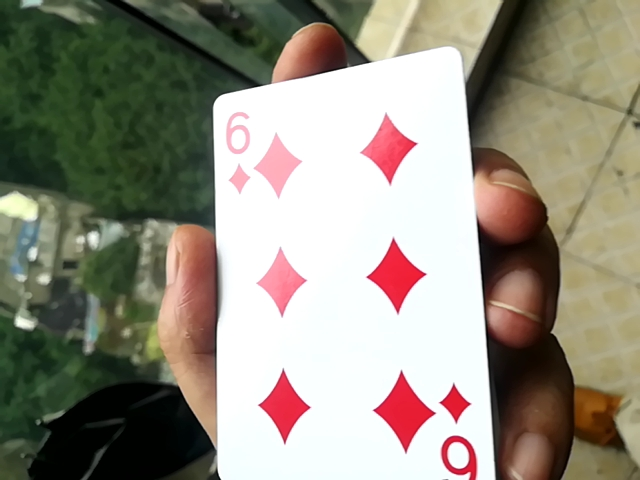fk 6: (187, 32, 500, 480)
